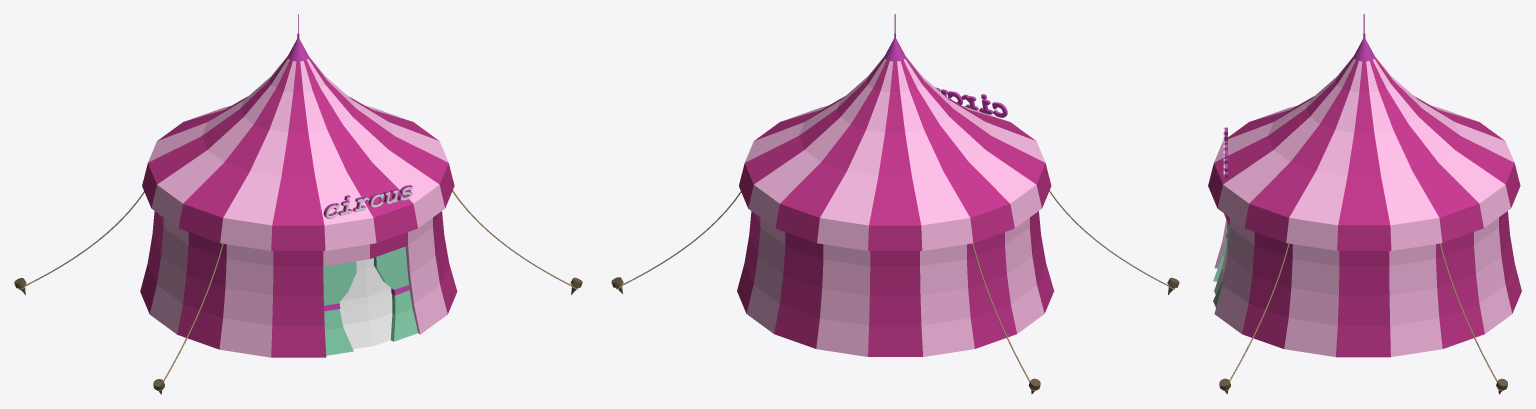
Rendered from CircusTentUNITY.fbx.
3 views of the same model, side by side, from view 1: azimuth 30°, elevation 25°; view 2: azimuth 150°, elevation 25°; view 3: azimuth 270°, elevation 25° (orthographic).
Parts seen in each view (by area): view 1: Cylinder, Cylinder.003, Text.001, Text; view 2: Cylinder, Text.001; view 3: Cylinder, Cone, BezierCircle.001, Cylinder.002.
Part boxes in pixels (x1=…): Cylinder: x1=140, y1=56, x2=457, y2=357; Cylinder.003: x1=339, y1=258, x2=392, y2=349; Text.001: x1=323, y1=185, x2=412, y2=218; Text: x1=326, y1=187, x2=412, y2=218; Cylinder: x1=737, y1=56, x2=1053, y2=356; Text.001: x1=935, y1=87, x2=1007, y2=117; Cylinder: x1=1208, y1=56, x2=1521, y2=357; Cone: x1=1219, y1=243, x2=1289, y2=394; BezierCircle.001: x1=1439, y1=243, x2=1507, y2=394; Cylinder.002: x1=1353, y1=14, x2=1374, y2=61.
Bounding box in the file's own units: 345 × 216 × 219.
